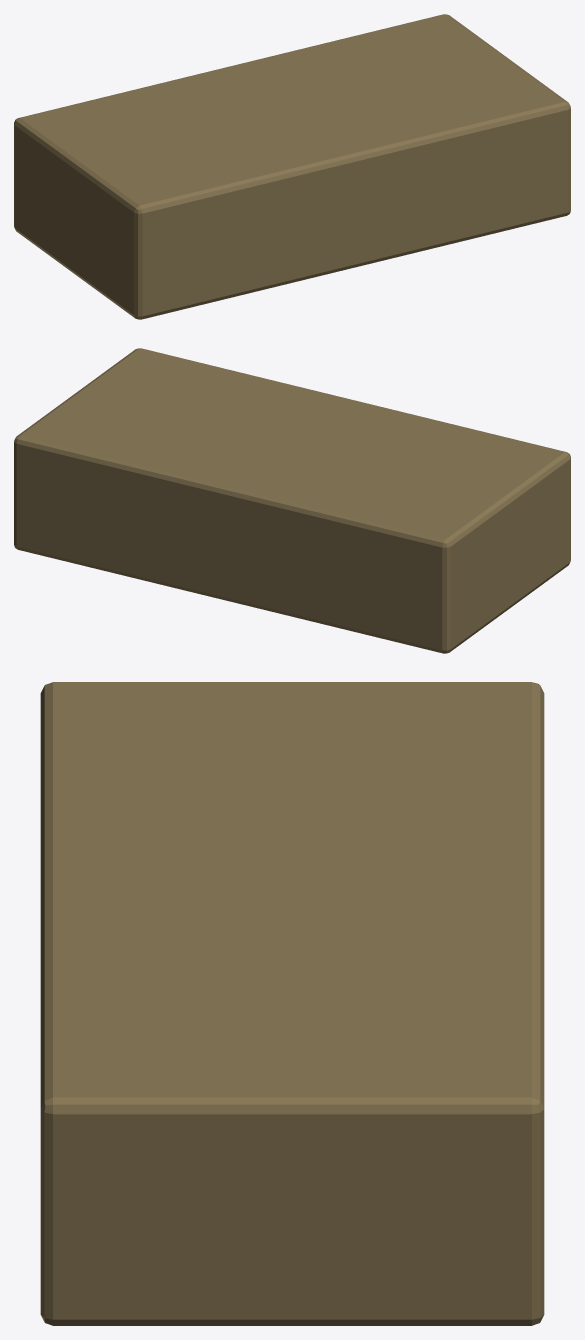
Rendered from SM_Platform_2m_03_B.fbx.
3 views of the same model, one above another, from view 1: azimuth 30°, elevation 25°; view 2: azimuth 150°, elevation 25°; view 3: azimuth 270°, elevation 25° (orthographic). The views are drawn at different scales.
Parts seen in each view (by area): view 1: polySurface94; view 2: polySurface94; view 3: polySurface94.
Part boxes in pixels (x1=…): polySurface94: x1=14, y1=14, x2=570, y2=319; polySurface94: x1=14, y1=348, x2=570, y2=653; polySurface94: x1=40, y1=682, x2=544, y2=1325.
Bounding box in the file's own units: 400 × 100 × 200.
